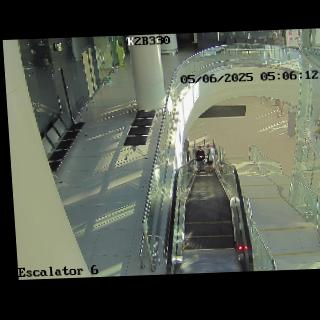normal: (195, 146, 207, 172), (205, 145, 215, 172)
